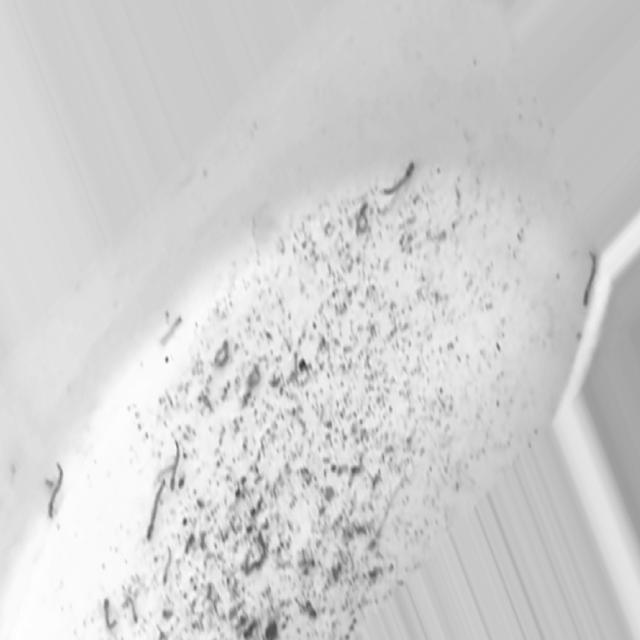larvas: (145, 481, 168, 543), (382, 161, 413, 195), (581, 249, 596, 307), (50, 463, 64, 517), (160, 314, 182, 346), (170, 436, 182, 489), (286, 369, 314, 387), (161, 546, 172, 587), (214, 339, 229, 368), (154, 462, 172, 485), (104, 601, 119, 628), (356, 203, 367, 234), (248, 366, 260, 388), (130, 596, 138, 628), (294, 351, 298, 373)
